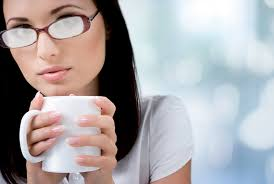Glasses: (1, 8, 106, 57)
